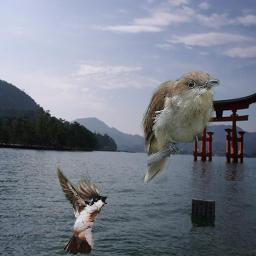Cuckoo: (140, 70, 220, 184)
Swallow: (54, 164, 108, 255)
